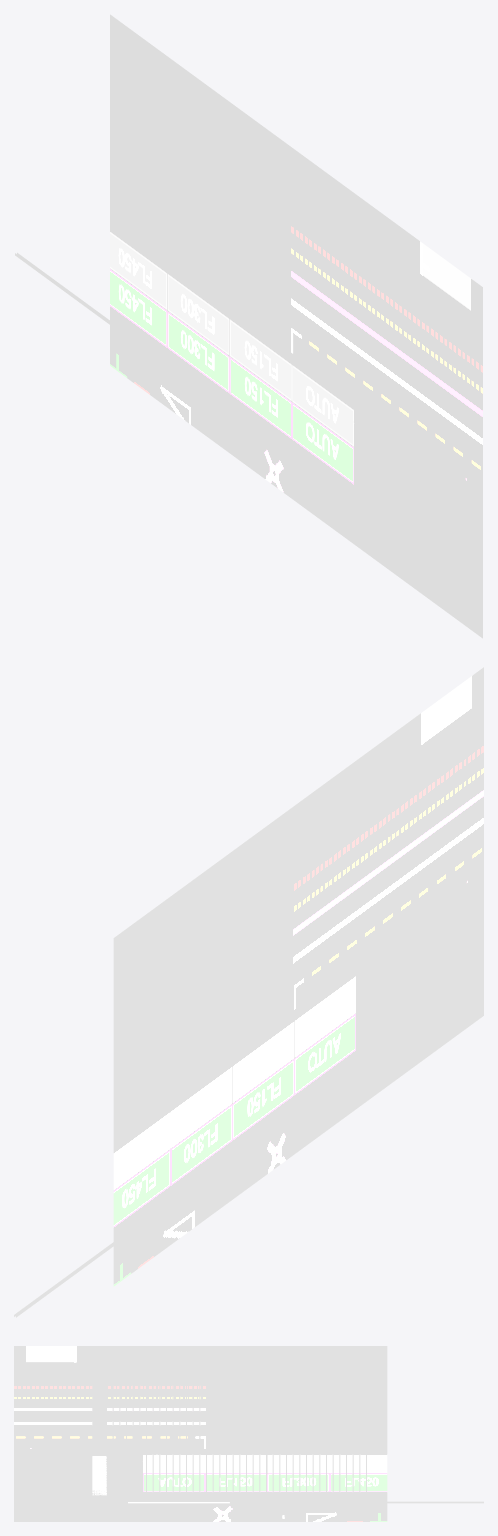
File: vsd.glb
3 renders of one model, top to bottom at view 1: azimuth 30°, elevation 25°; view 2: azimuth 150°, elevation 25°; view 3: azimuth 270°, elevation 25°, orthographic. The views are drawn at different scales.
Parts seen in each view (by area): view 1: rect; view 2: rect; view 3: rect, wp5dist, wp5path, fl450.lock.active, auto.vert.active, fl300.lock.active, fl150.lock.active, wp5, path, the_aircraft, terrain.39, terrain.38 (+24 smaller).
Boxes of the visible parts, left/top/right/bottom form: rect: left=110, top=14, right=482, bottom=638; rect: left=113, top=667, right=483, bottom=1286; rect: left=14, top=1346, right=387, bottom=1521; wp5dist: left=92, top=1358, right=106, bottom=1503; wp5path: left=105, top=1502, right=483, bottom=1503; fl450.lock.active: left=163, top=1507, right=208, bottom=1520; auto.vert.active: left=26, top=1507, right=71, bottom=1520; fl300.lock.active: left=117, top=1507, right=162, bottom=1520; fl150.lock.active: left=71, top=1507, right=116, bottom=1520; wp5: left=101, top=1495, right=142, bottom=1506; path: left=143, top=1501, right=483, bottom=1501; the_aircraft: left=76, top=1490, right=102, bottom=1502; terrain.39: left=359, top=1358, right=360, bottom=1503; terrain.38: left=352, top=1358, right=353, bottom=1503.
Size of the model in its own units: 0.000981 by 0.0876 by 0.2122.
Materials: 1 (1 with a texture image).
